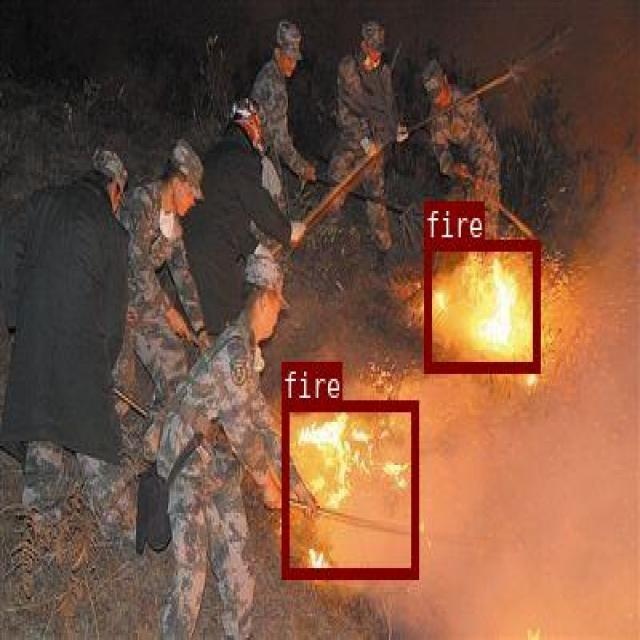fire: (281, 399, 417, 575), (424, 238, 539, 370)
